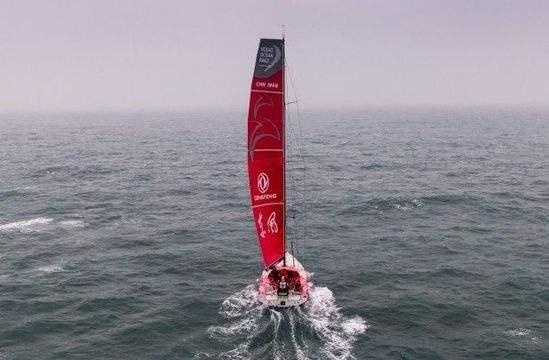fanchuan: (242, 23, 335, 316)
